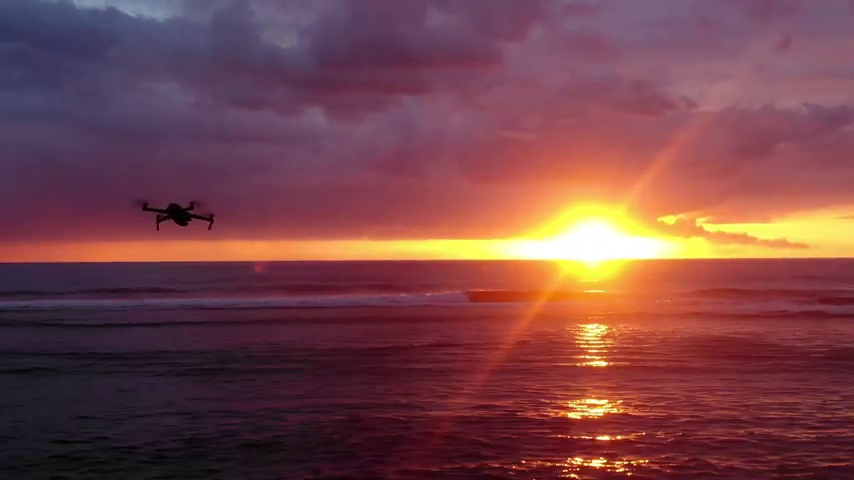drone: (140, 201, 215, 231)
